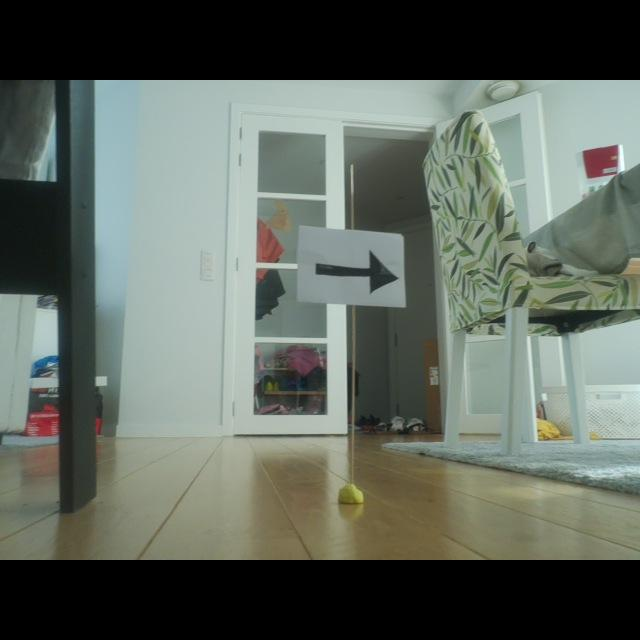jobbra_nyil: (316, 251, 397, 292)
